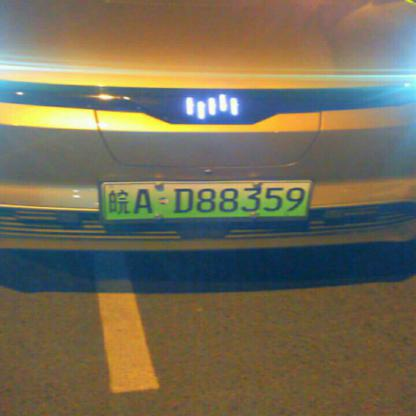lp: (105, 181, 310, 217)
